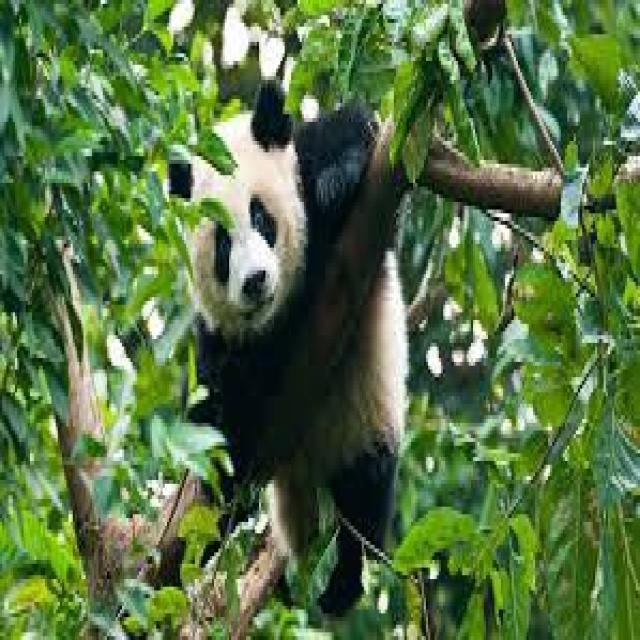Panda: (158, 75, 420, 629)
